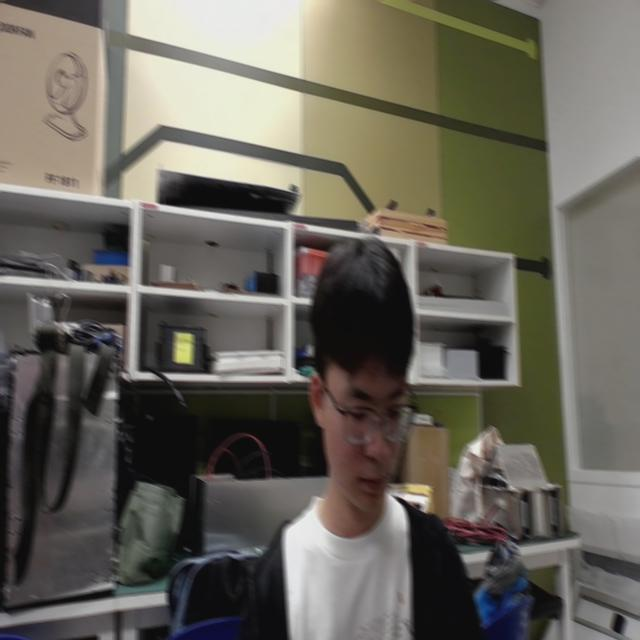Without Helmet: (288, 208, 481, 560)
